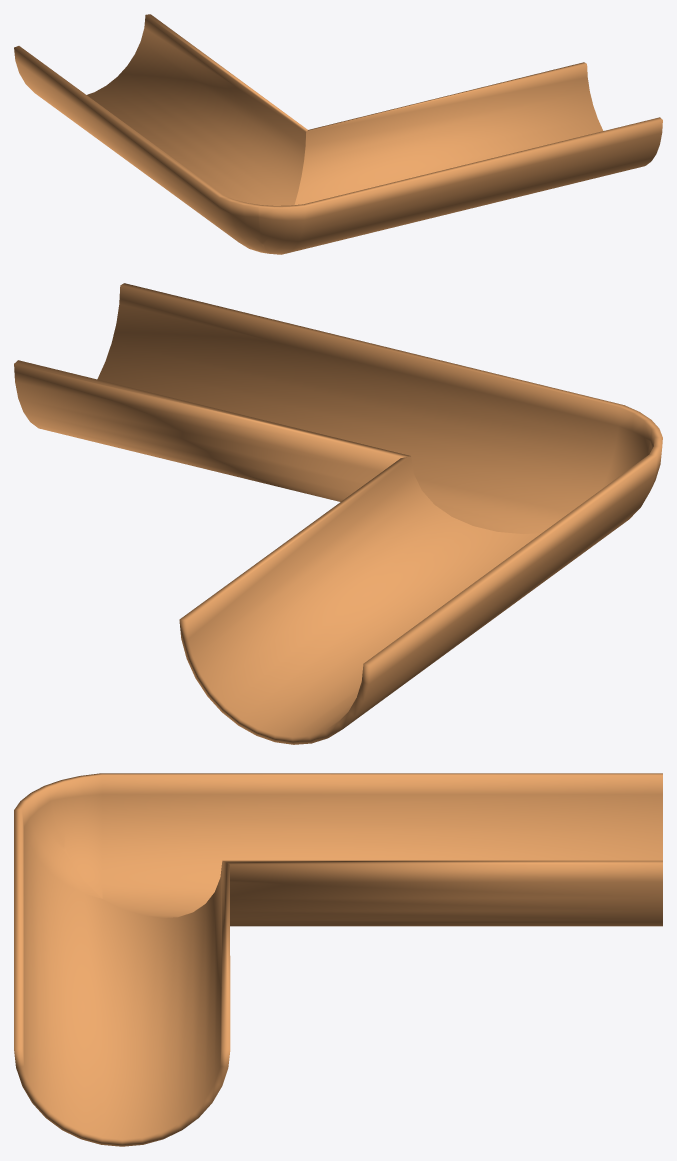
The model's file is WAY l.fbx.
3 views of the same model, one above another, from view 1: azimuth 30°, elevation 25°; view 2: azimuth 150°, elevation 25°; view 3: azimuth 270°, elevation 25° (orthographic). The views are drawn at different scales.
Parts seen in each view (by area): view 1: Sphere.005; view 2: Sphere.005; view 3: Sphere.005.
Part boxes in pixels (box(x1,y1,x2,y2)): Sphere.005: box(14, 14, 662, 254); Sphere.005: box(14, 283, 662, 744); Sphere.005: box(14, 773, 662, 1146).
Bounding box in the file's own units: 3081 × 511 × 3060.
